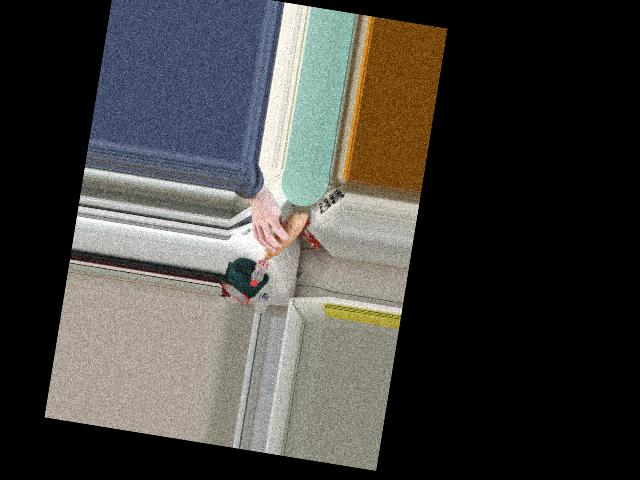sweet_potato: (257, 213, 306, 264)
